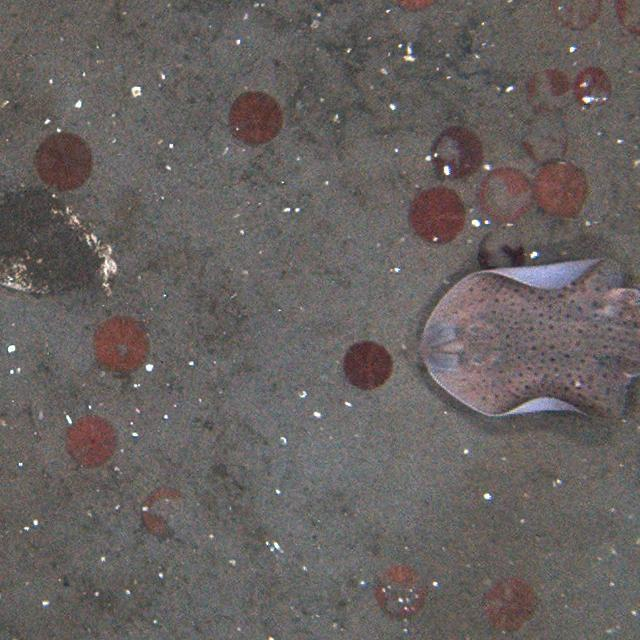skate: (425, 244, 640, 430)
